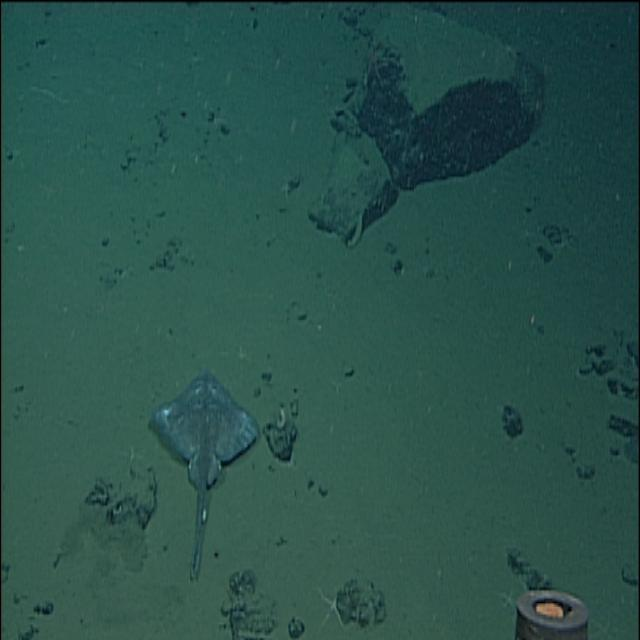Brittle Star: (313, 575, 357, 635), (494, 580, 517, 622), (277, 172, 299, 208)
Not Brittle Star: (131, 352, 269, 579)
